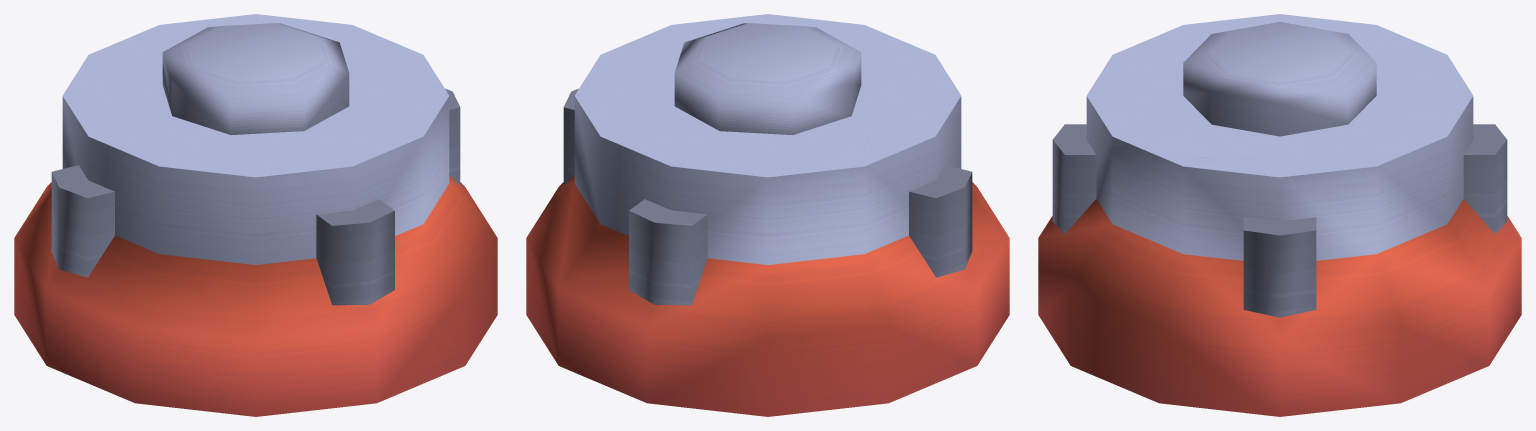
Rendered from tower-round-bottom-a.glb.
The picture shows the model from 3 angles, left to right: view 1: azimuth 30°, elevation 25°; view 2: azimuth 150°, elevation 25°; view 3: azimuth 270°, elevation 25°; orthographic projection.
Parts seen in each view (by area): view 1: tower-round-bottom-a; view 2: tower-round-bottom-a; view 3: tower-round-bottom-a.
Boxes of the visible parts, x1,y1,x2,y2 form: tower-round-bottom-a: (14,14,497,416); tower-round-bottom-a: (526,14,1009,416); tower-round-bottom-a: (1038,14,1521,416).
Bounding box in the file's own units: 1 × 0.6 × 1.
1 material, 1 textured.
